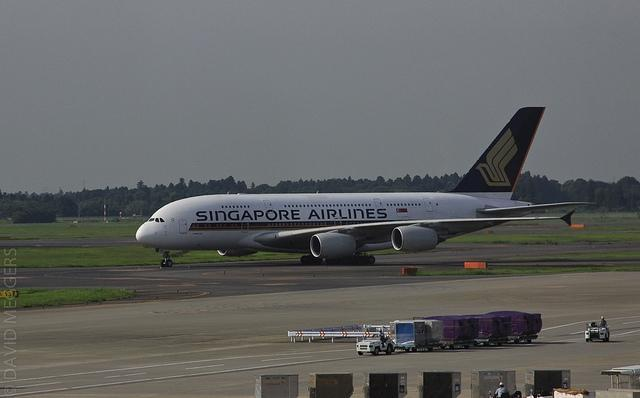car: (356, 334, 396, 355), (585, 322, 611, 342)
truck: (392, 318, 446, 354), (525, 368, 571, 397), (307, 370, 354, 398), (470, 369, 517, 397), (363, 371, 408, 398), (356, 334, 397, 356), (253, 372, 287, 394), (584, 321, 608, 342)
